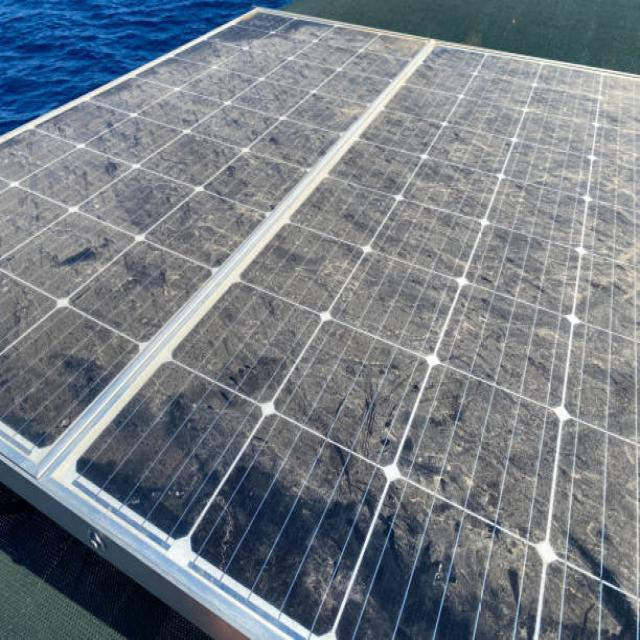faulty: (0, 8, 640, 640)
